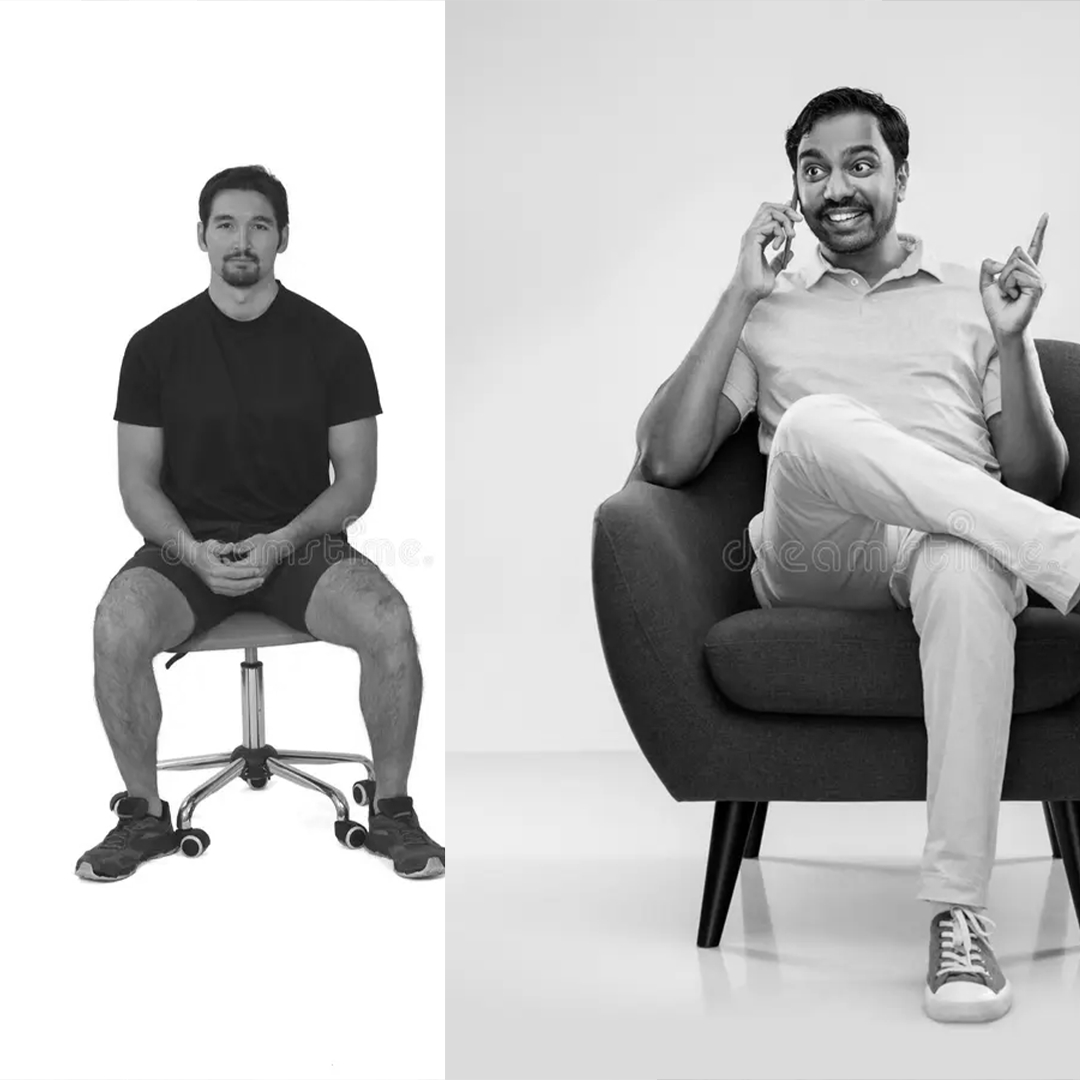Focused: (136, 130, 338, 482)
distracted: (710, 80, 1028, 483)
